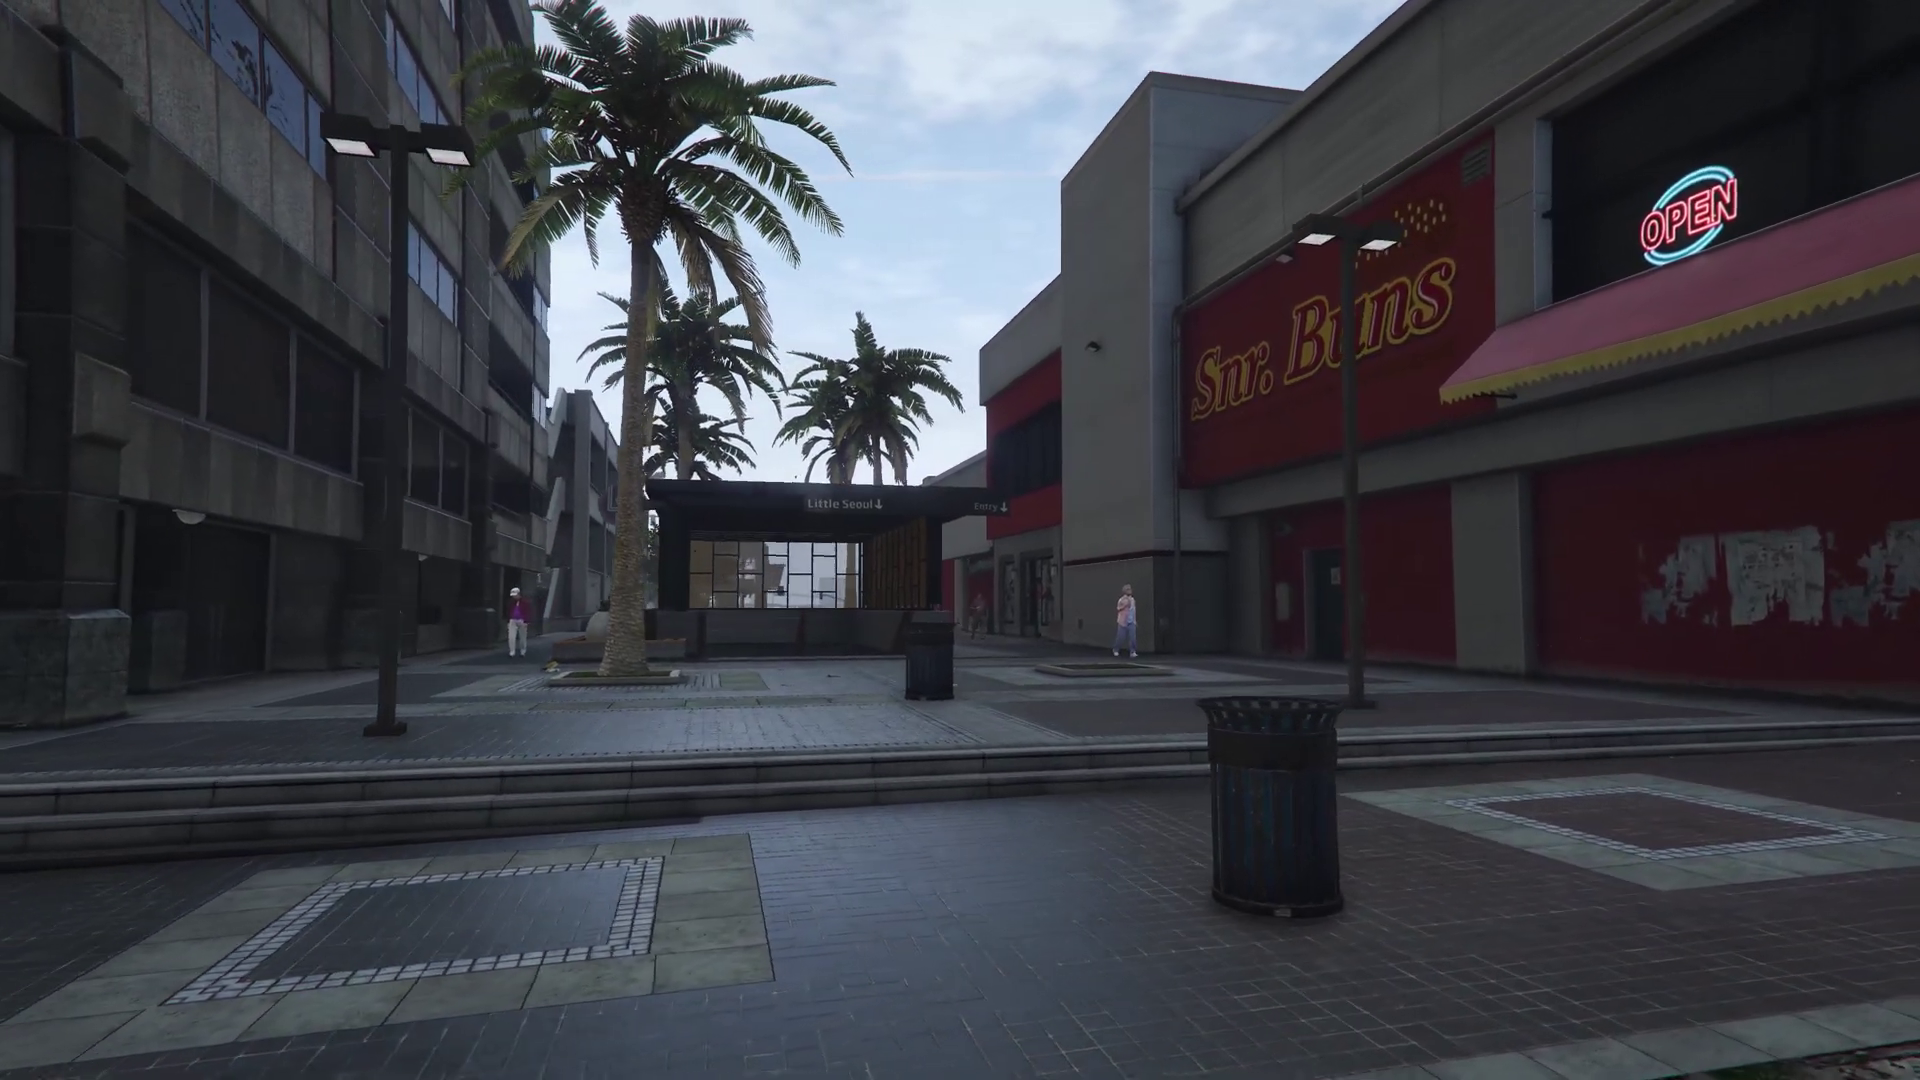person: (1114, 584, 1140, 659), (506, 586, 531, 660), (967, 594, 987, 640)
